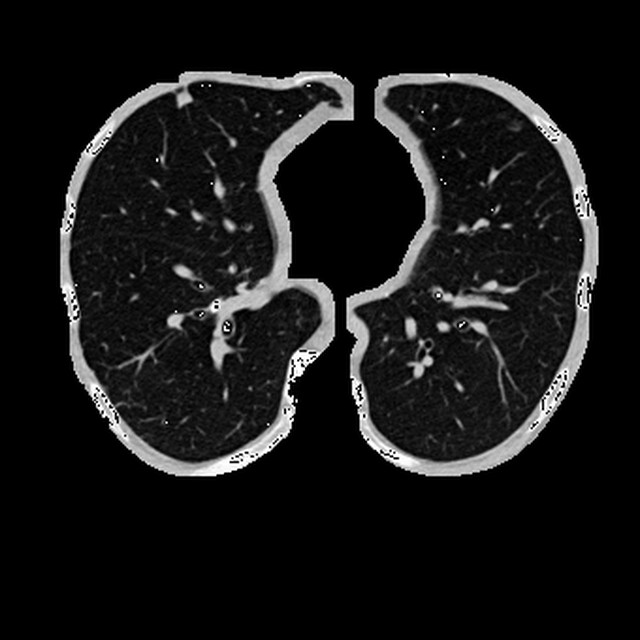PN: (175, 90, 190, 105)
